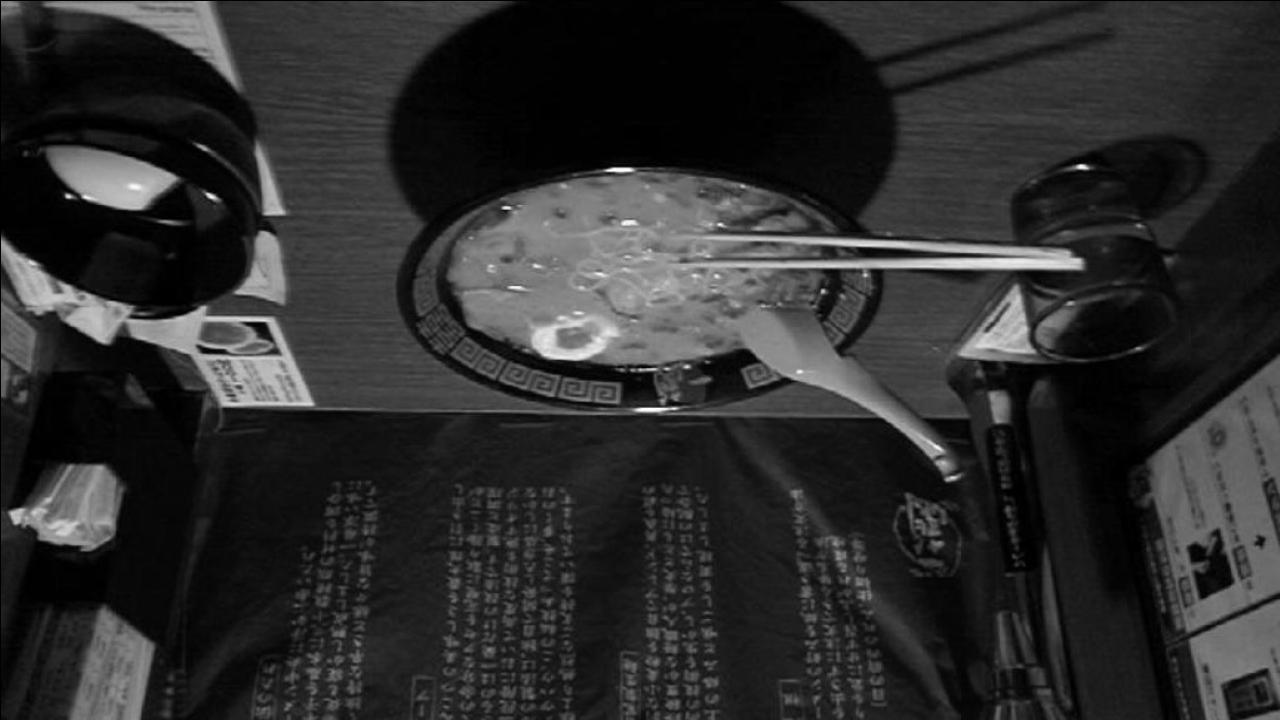chopstick: (676, 232, 1080, 270)
